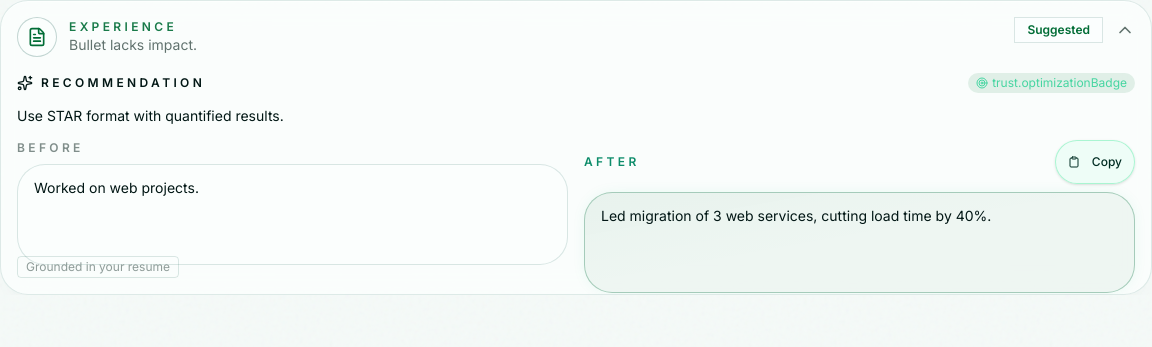
OptimizationCard source_span evidence disclosure › shows evidence through an accessible disclosure when evidence metadata is present
Click the button "Grounded in your resume" at (98, 266), box [17,256,179,278]
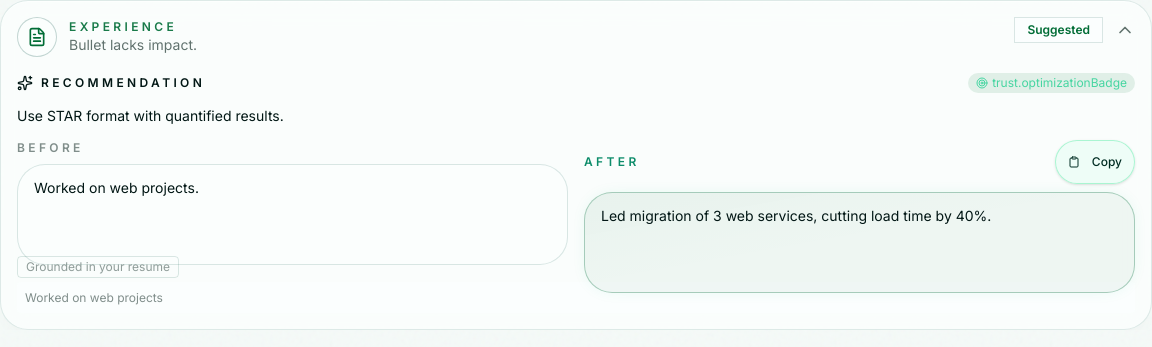
Now the text "Worked on web projects" is shown, box [17,282,1135,313]
